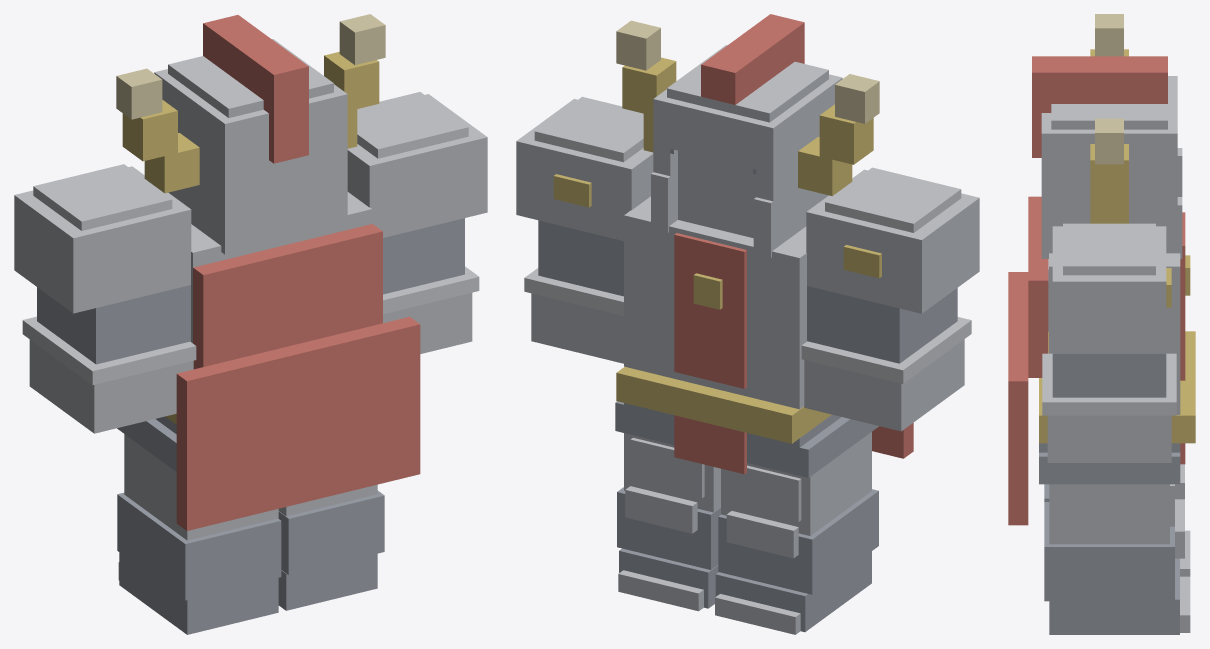
File: warden_pieces.glb
The picture shows the model from 3 angles, left to right: view 1: azimuth 30°, elevation 25°; view 2: azimuth 150°, elevation 25°; view 3: azimuth 270°, elevation 25°; orthographic projection. The views are drawn at different scales.
Visible parts, largest first — view 1: Cape, Helm, Breastplate, LeftGreave, LeftVambrace, LeftRerebrace, RightGreave, RightRerebrace, LeftSabaton, RightVambrace, RightSabaton, LeftCuisse (+1 smaller); view 2: Breastplate, Helm, Belt, LeftGreave, LeftVambrace, RightGreave, LeftRerebrace, RightVambrace, LeftSabaton, RightRerebrace, LeftCuisse, RightSabaton (+2 smaller); view 3: Helm, Breastplate, RightGreave, RightVambrace, Cape, Belt, RightCuisse, RightSabaton, RightRerebrace, LeftSabaton, LeftGreave.
Boxes of the visible parts, left/top/right/bottom form: Cape: left=176, top=224, right=420, bottom=530; Helm: left=116, top=14, right=385, bottom=254; Breastplate: left=14, top=92, right=487, bottom=343; LeftGreave: left=117, top=476, right=281, bottom=600; LeftVambrace: left=22, top=316, right=196, bottom=433; LeftRerebrace: left=37, top=272, right=181, bottom=364; RightGreave: left=278, top=484, right=384, bottom=575; RightRerebrace: left=379, top=200, right=473, bottom=294; LeftSabaton: left=118, top=552, right=278, bottom=634; RightVambrace: left=383, top=266, right=479, bottom=353; RightSabaton: left=278, top=553, right=377, bottom=610; LeftCuisse: left=124, top=434, right=176, bottom=513; Breastplate: left=516, top=96, right=979, bottom=409; Helm: left=616, top=14, right=879, bottom=257; Belt: left=615, top=367, right=878, bottom=477; LeftGreave: left=718, top=473, right=878, bottom=594; LeftVambrace: left=801, top=317, right=971, bottom=431; RightGreave: left=617, top=459, right=720, bottom=569; LeftRerebrace: left=815, top=273, right=957, bottom=363; RightVambrace: left=524, top=268, right=623, bottom=363; LeftSabaton: left=715, top=551, right=871, bottom=634; RightRerebrace: left=529, top=203, right=622, bottom=295; LeftCuisse: left=721, top=432, right=871, bottom=517; RightSabaton: left=618, top=548, right=718, bottom=611; Helm: left=1032, top=14, right=1182, bottom=258; Breastplate: left=1049, top=212, right=1190, bottom=414; RightGreave: left=1044, top=499, right=1184, bottom=601; RightVambrace: left=1042, top=353, right=1176, bottom=462; Cape: left=1008, top=196, right=1048, bottom=525; Belt: left=1039, top=331, right=1195, bottom=484; RightCuisse: left=1049, top=484, right=1174, bottom=526; RightSabaton: left=1049, top=558, right=1190, bottom=634; RightRerebrace: left=1052, top=354, right=1166, bottom=397; LeftSabaton: left=1180, top=530, right=1190, bottom=576; LeftGreave: left=1044, top=464, right=1184, bottom=501.
Size of the model in its own units: 4.62 by 5.84 by 1.88.
